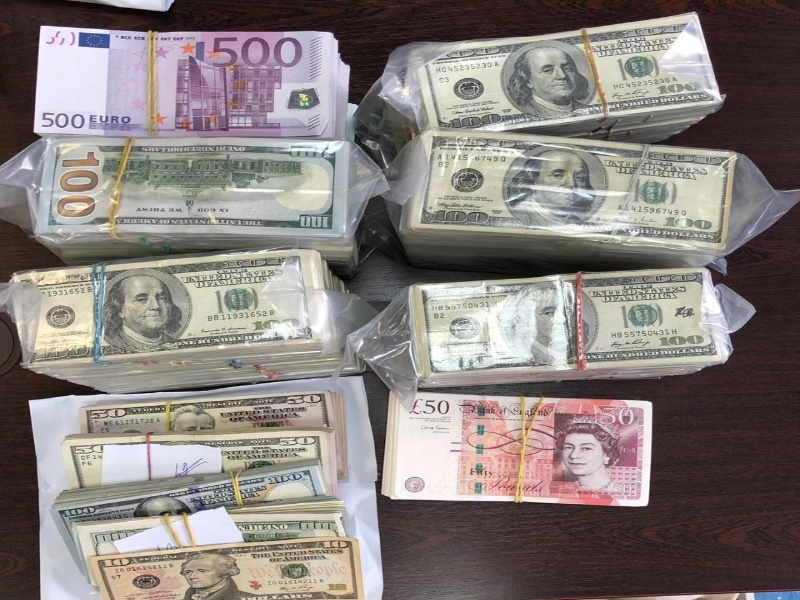cash: (54, 388, 357, 600), (12, 247, 364, 396), (399, 130, 738, 264), (397, 11, 724, 145), (33, 139, 357, 270), (411, 268, 726, 384), (34, 25, 350, 139), (379, 388, 654, 508)
